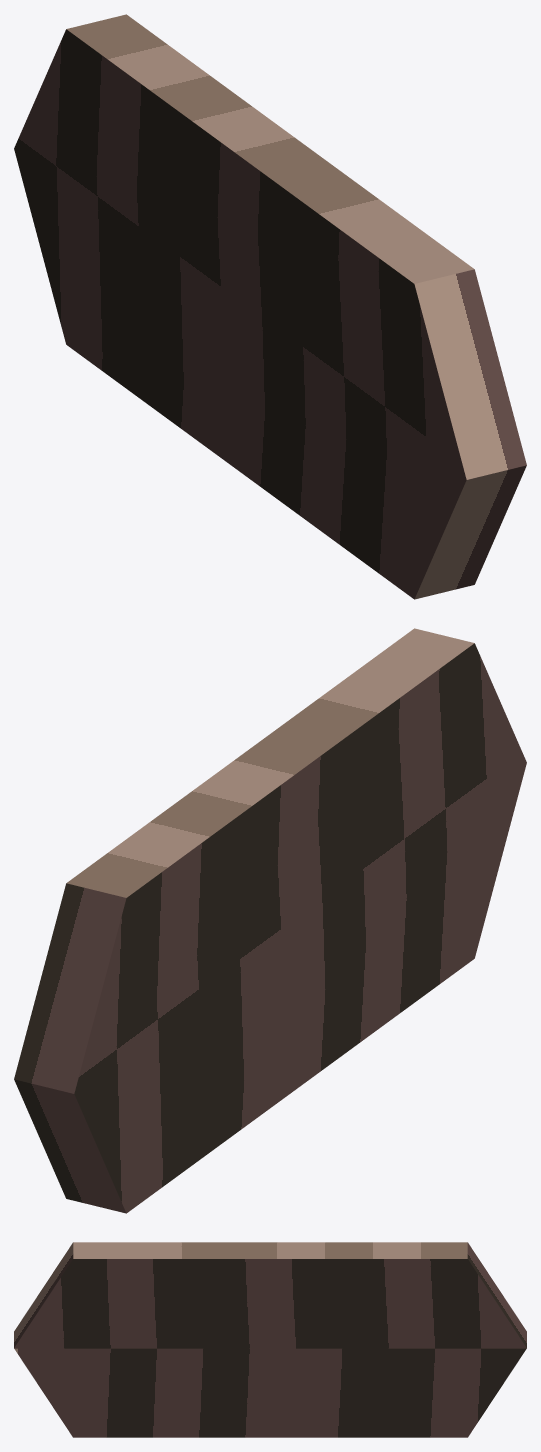
Rendered from sign_379x03.gltf.
3 views of the same model, one above another, from view 1: azimuth 30°, elevation 25°; view 2: azimuth 150°, elevation 25°; view 3: azimuth 270°, elevation 25° (orthographic). The views are drawn at different scales.
Visible parts, largest first — view 1: sign_379x03; view 2: sign_379x03; view 3: sign_379x03.
Part boxes in pixels (x1=…): sign_379x03: x1=14, y1=14, x2=526, y2=599; sign_379x03: x1=14, y1=628, x2=526, y2=1213; sign_379x03: x1=14, y1=1242, x2=526, y2=1437.
Bounding box in the file's own units: 0.1 × 0.5 × 1.3.
1 material, 1 textured.
